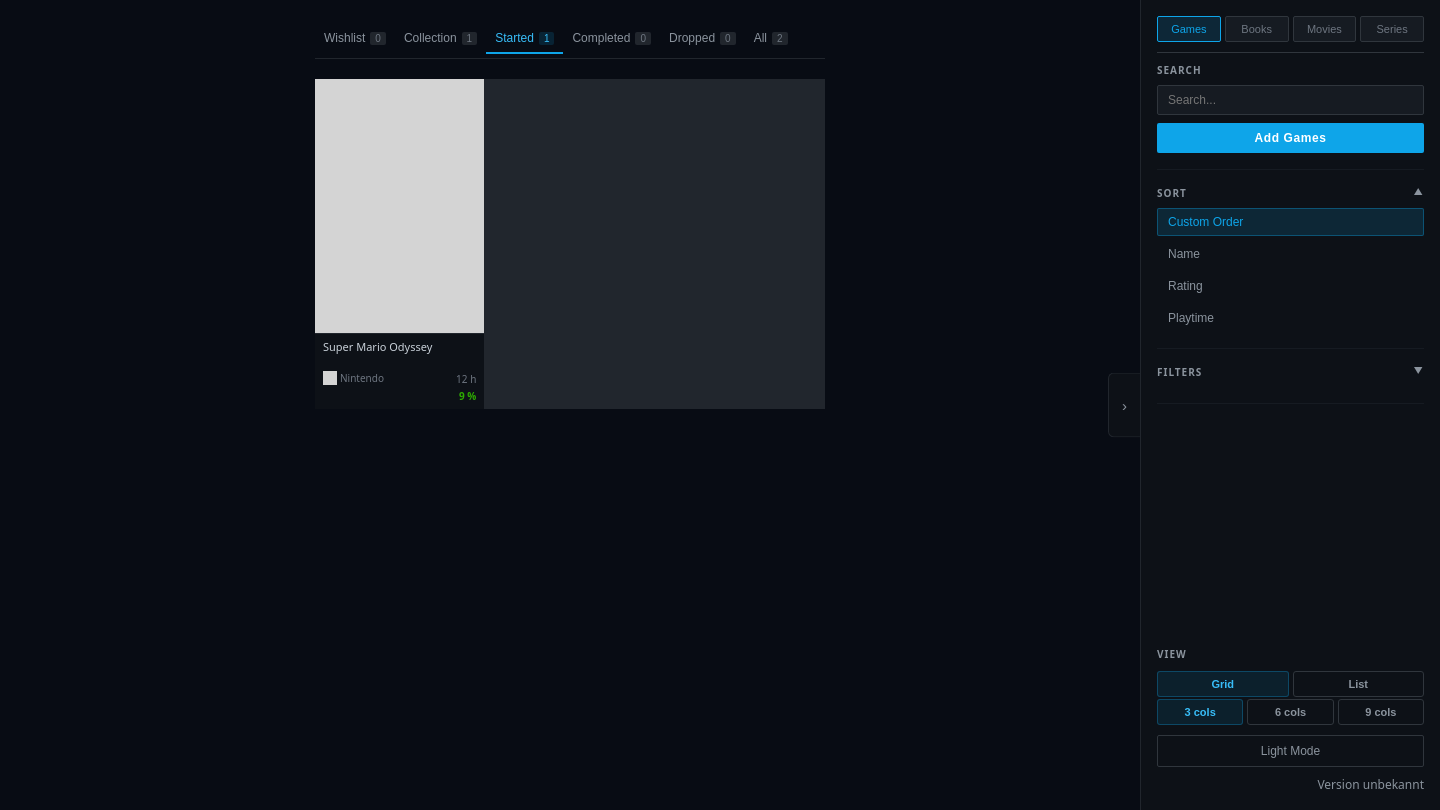
App – Media Switcher › wechselt zu MovieList
This screenshot has width=1440, height=810.
What coordinates should you click on to do the following:
click the button "Movies"
I would click on:
 (1324, 29)
Its box is [1292,16,1356,42].
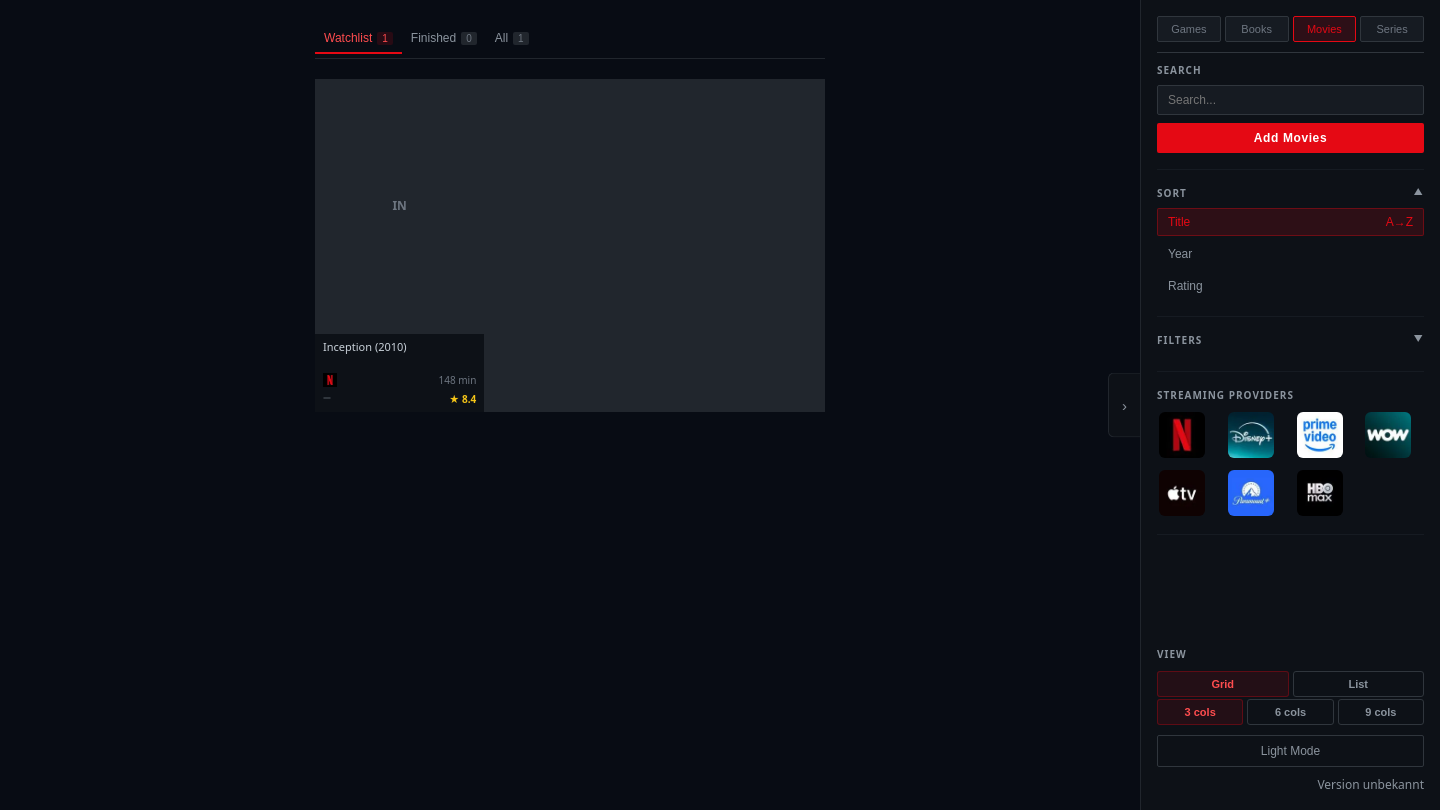
Check: the text "Watchlist" is shown, box [315,24,402,54]
Check: the text "Inception" is shown, box [323,339,372,354]
